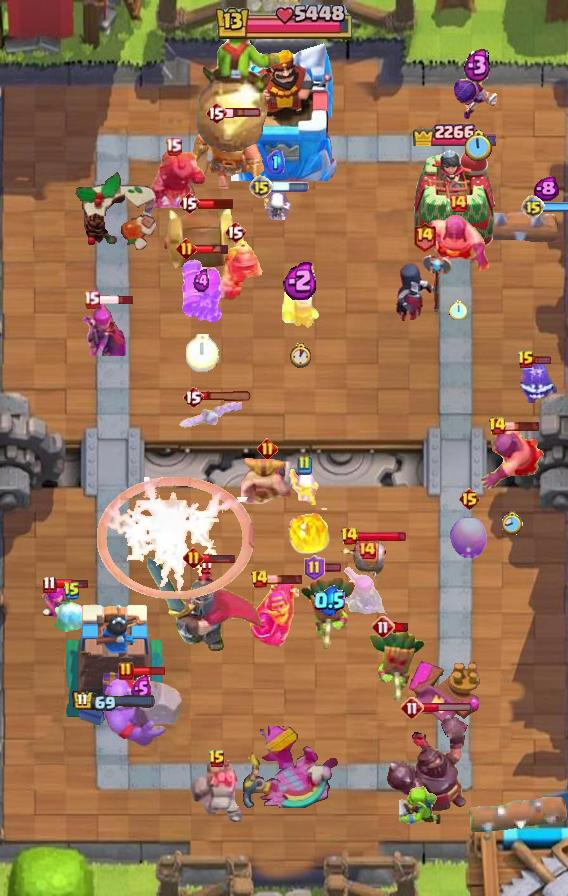archer: (38, 580, 80, 628)
archer-evolution: (336, 565, 398, 621), (80, 298, 132, 356)
bar: (356, 530, 407, 543), (201, 391, 253, 402), (422, 702, 473, 713), (198, 197, 235, 210), (267, 573, 304, 585), (504, 420, 541, 432), (98, 294, 135, 306), (225, 107, 262, 119), (132, 665, 167, 677), (54, 578, 89, 590), (201, 552, 236, 564), (195, 243, 230, 255), (271, 182, 309, 192), (543, 202, 568, 212), (323, 562, 342, 573), (533, 355, 552, 365), (393, 622, 410, 633)
bar-level: (412, 221, 437, 252), (400, 696, 424, 720), (371, 615, 395, 639), (521, 195, 545, 219), (249, 175, 273, 199), (458, 487, 481, 511), (304, 555, 325, 581), (182, 385, 204, 409), (224, 220, 246, 244), (178, 191, 200, 215), (205, 101, 227, 125), (183, 547, 204, 568), (257, 438, 278, 459), (176, 238, 197, 259), (357, 540, 377, 560), (448, 193, 468, 213), (250, 569, 269, 589), (340, 526, 359, 546), (488, 416, 507, 436), (208, 749, 226, 769), (63, 581, 81, 601), (517, 350, 535, 370), (83, 290, 100, 309), (165, 137, 182, 156), (118, 661, 134, 681), (296, 455, 312, 475), (42, 575, 57, 594)
barbarian-barrel: (156, 206, 246, 274)
bat-evolution: (178, 398, 242, 430)
bomber-evolution: (453, 68, 501, 122)
clock: (186, 334, 219, 372), (463, 130, 492, 163), (289, 343, 313, 368), (502, 511, 523, 536), (449, 300, 467, 320)
dart-goblin: (299, 573, 359, 651), (367, 627, 427, 703)
electro-spirit: (517, 359, 557, 403)
elite-barbarian: (241, 455, 293, 505)
elixir: (283, 260, 319, 300), (463, 47, 492, 83), (314, 585, 345, 616), (533, 176, 559, 202), (131, 675, 152, 702), (193, 269, 211, 293), (267, 150, 285, 174)
executioner: (479, 425, 545, 491), (426, 215, 490, 275)
firecracker: (280, 272, 322, 330)
firecracker-evolution: (178, 246, 226, 326)
goblin: (395, 782, 443, 827)
golemite: (188, 760, 246, 824)
ice-spirit: (53, 601, 91, 635)
king-tower: (231, 43, 337, 181)
king-tower-bar: (213, 5, 355, 43)
knight-evolution: (248, 578, 299, 647)
miner: (205, 237, 265, 305)
night-witch: (394, 252, 454, 326)
phoenix-egg: (449, 516, 489, 560)
queen-tower: (62, 599, 167, 731), (410, 145, 496, 256)
skeleton: (259, 187, 293, 223), (288, 469, 320, 505)
the-log: (438, 204, 568, 246), (468, 797, 568, 833)
tower-bar: (410, 117, 497, 146), (72, 690, 156, 713)
wall-breaker: (338, 540, 388, 582)
